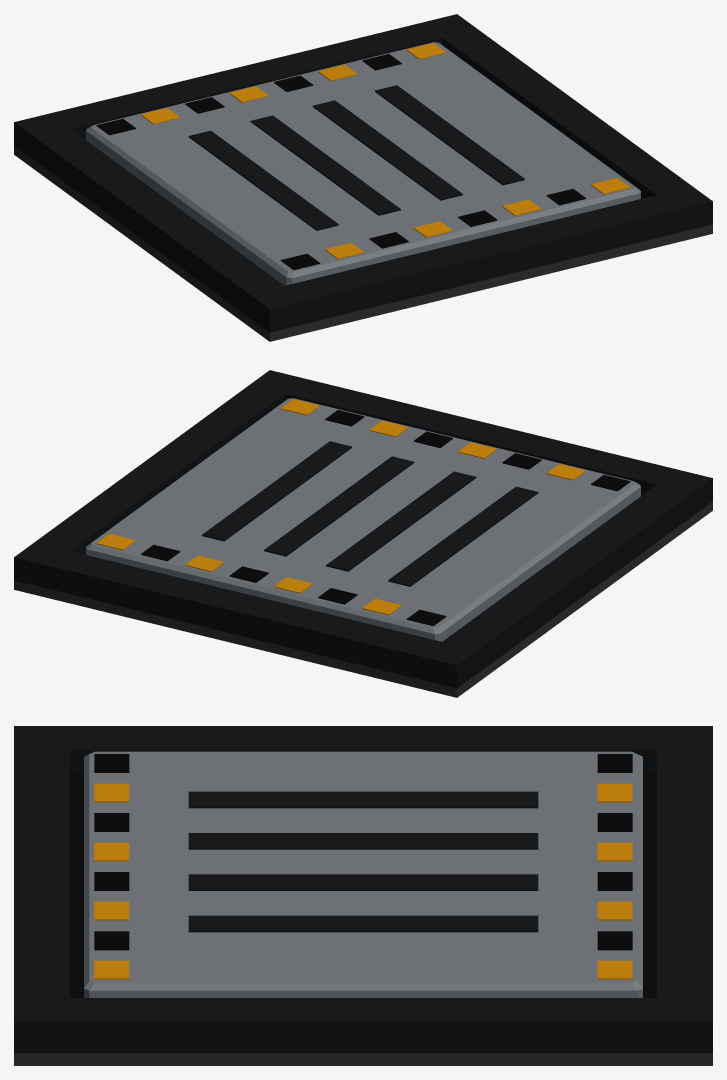
File: SM_Int_PressurePlate.glb
3 views of the same model, one above another, from view 1: azimuth 30°, elevation 25°; view 2: azimuth 150°, elevation 25°; view 3: azimuth 270°, elevation 25° (orthographic). The views are drawn at different scales.
Parts seen in each view (by area): view 1: SM_Int_PressurePlate_Plate, SM_Int_PressurePlate; view 2: SM_Int_PressurePlate_Plate, SM_Int_PressurePlate; view 3: SM_Int_PressurePlate_Plate, SM_Int_PressurePlate.
Boxes of the visible parts, x1=… form: SM_Int_PressurePlate_Plate: x1=86, y1=42, x2=640, y2=285; SM_Int_PressurePlate: x1=14, y1=14, x2=712, y2=341; SM_Int_PressurePlate_Plate: x1=86, y1=398, x2=640, y2=641; SM_Int_PressurePlate: x1=14, y1=370, x2=712, y2=697; SM_Int_PressurePlate_Plate: x1=84, y1=751, x2=642, y2=997; SM_Int_PressurePlate: x1=14, y1=726, x2=712, y2=1065.
Size of the model in its own units: 1 by 0.083 by 1.
Materials: 1 (1 with a texture image).
